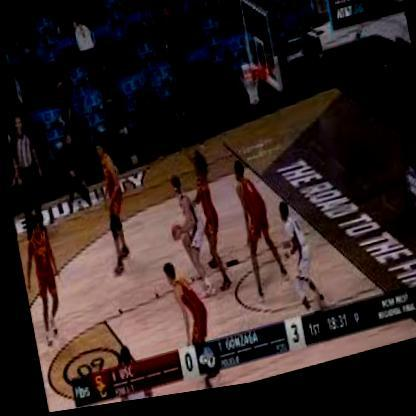basketball: (167, 226, 181, 248)
rim: (235, 71, 258, 94)
